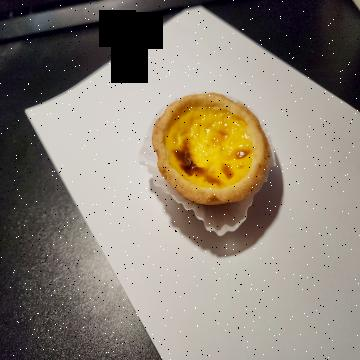EggTart: (151, 91, 270, 208)
